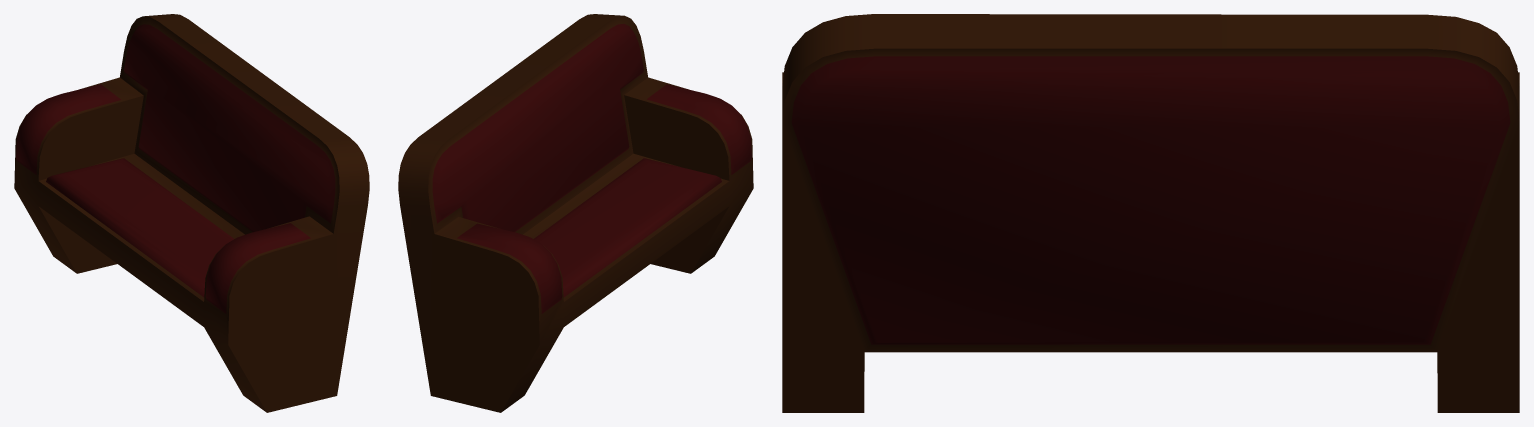
Rendered from siège_train (1).fbx.
3 renders of one model, left to right at view 1: azimuth 30°, elevation 25°; view 2: azimuth 150°, elevation 25°; view 3: azimuth 270°, elevation 25°, orthographic. The views are drawn at different scales.
Parts seen in each view (by area): view 1: Box032; view 2: Box032; view 3: Box032.
Part boxes in pixels (left/top/right/bottom): Box032: left=14, top=14, right=369, bottom=412; Box032: left=398, top=14, right=753, bottom=412; Box032: left=782, top=14, right=1519, bottom=412.
Size of the model in its own units: 70.57 by 104 by 170.
